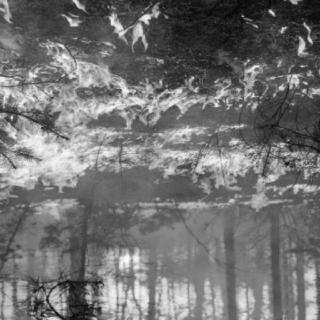Fire: (6, 5, 310, 229)
other: (81, 240, 166, 284)
